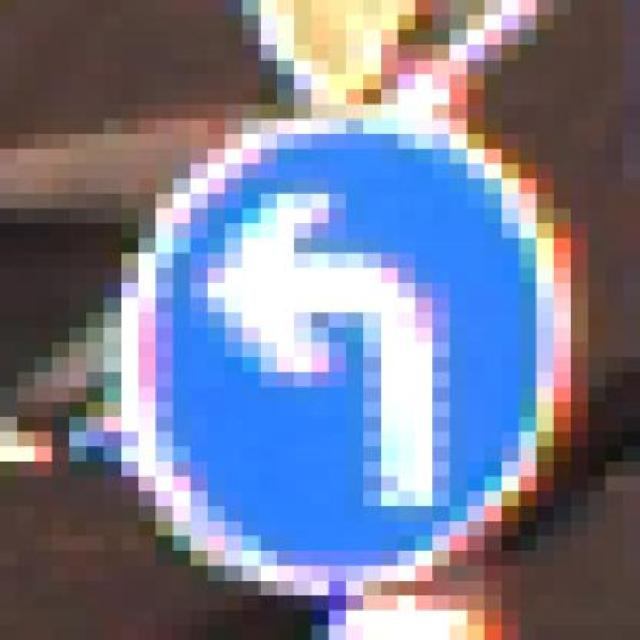Turn left ahead: (104, 104, 588, 610)
